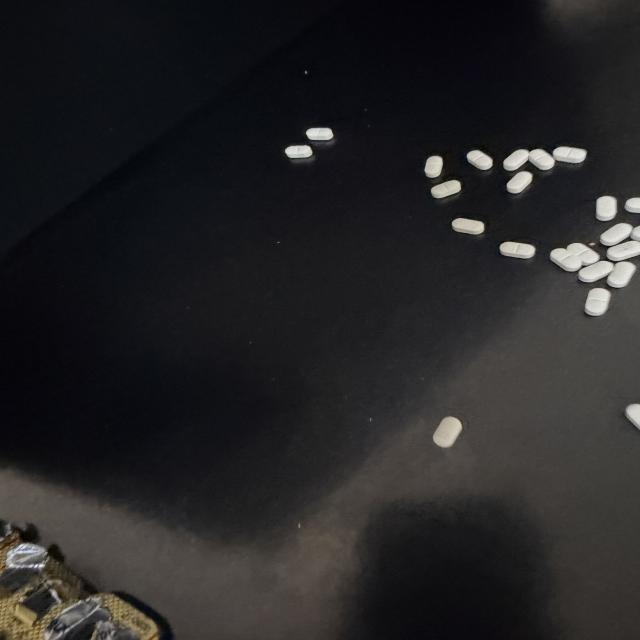pill: (433, 417, 462, 448), (600, 223, 633, 246), (550, 248, 582, 271), (578, 261, 613, 282), (607, 262, 636, 287), (567, 243, 599, 265), (585, 288, 610, 316), (607, 241, 639, 261), (500, 242, 535, 258), (507, 171, 532, 193), (529, 149, 555, 170), (431, 180, 461, 198), (553, 147, 586, 163), (596, 196, 617, 221), (504, 150, 529, 171), (452, 218, 484, 234), (467, 150, 492, 170), (425, 156, 443, 178), (625, 404, 640, 429), (285, 145, 312, 158), (306, 128, 333, 140), (625, 198, 639, 213), (631, 227, 639, 240)
